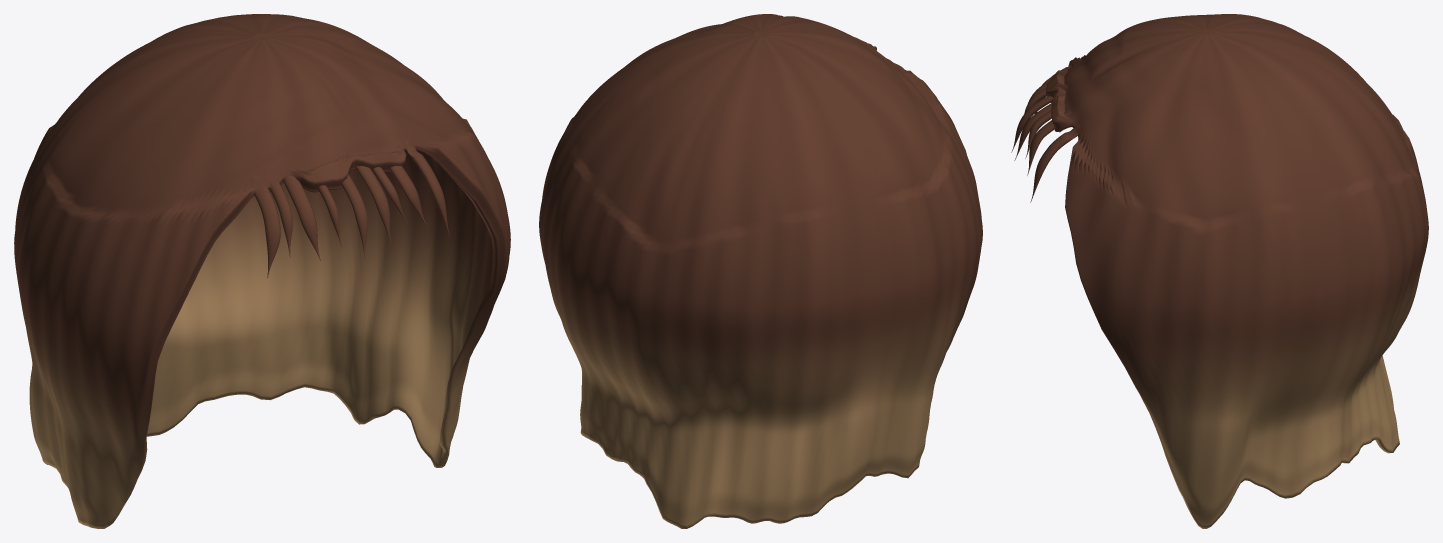
The model's file is side-sweep-headband-ombre.glb.
The picture shows the model from 3 angles, left to right: view 1: azimuth 30°, elevation 25°; view 2: azimuth 150°, elevation 25°; view 3: azimuth 270°, elevation 25°; orthographic projection. The views are drawn at different scales.
Visible parts, largest first — view 1: Hair / layered lob, Fringe / tapered lock 01, Fringe / tapered lock 03, Fringe / tapered lock 09, Fringe / tapered lock 06, Fringe / tapered lock 05, Fringe / tapered lock 02, Fringe / tapered lock 08; view 2: Hair / layered lob; view 3: Hair / layered lob, Fringe / tapered lock 09.
Part boxes in pixels (<box>): Hair / layered lob: <box>14,14,510,528</box>; Fringe / tapered lock 01: <box>250,175,280,278</box>; Fringe / tapered lock 03: <box>283,175,320,260</box>; Fringe / tapered lock 09: <box>405,140,449,236</box>; Fringe / tapered lock 06: <box>355,166,391,245</box>; Fringe / tapered lock 05: <box>341,174,367,258</box>; Fringe / tapered lock 02: <box>269,177,292,257</box>; Fringe / tapered lock 08: <box>382,147,426,226</box>; Hair / layered lob: <box>539,14,982,528</box>; Hair / layered lob: <box>1046,14,1428,528</box>; Fringe / tapered lock 09: <box>1030,124,1080,202</box>.
Size of the model in its own units: 0.8388 by 0.8786 by 0.7904.
